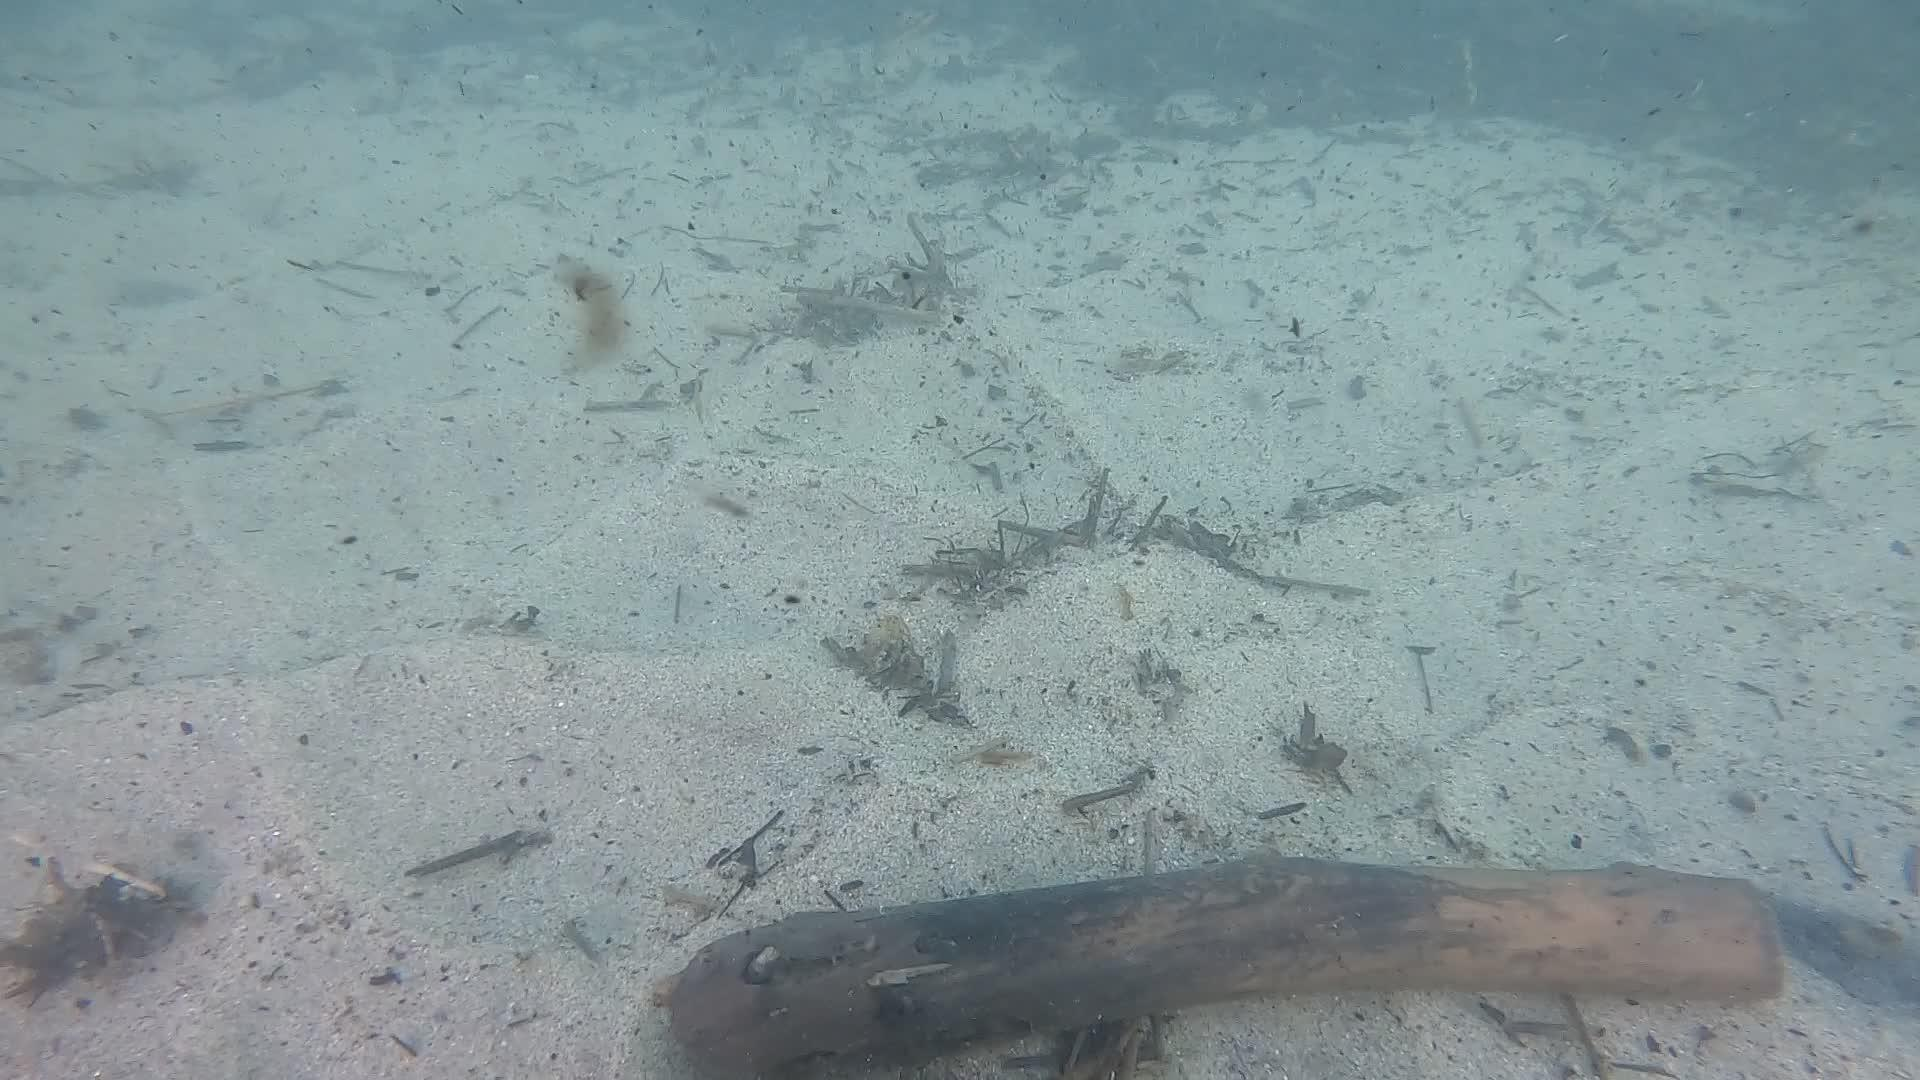wood: (665, 847, 1782, 1080)
